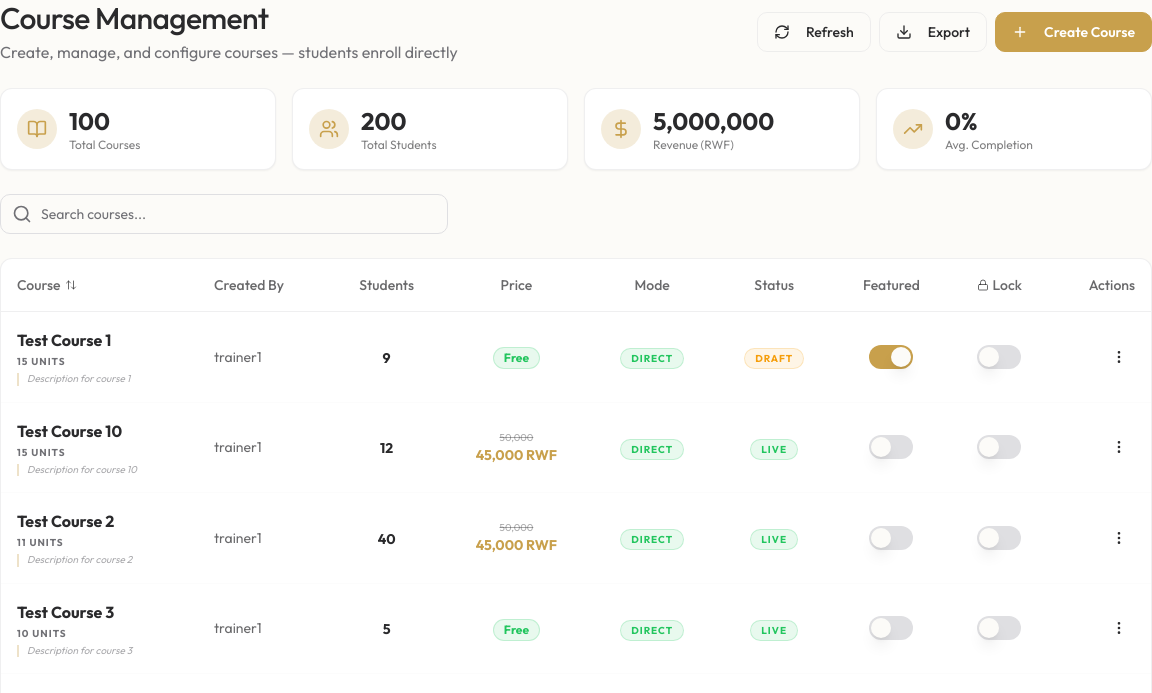
Test: AdminCourses — pagination integration › filters courses by title when searching
Type "Test Course 1" into the field with placeholder "Search courses...".
click(224, 214); type("Test Course 1")  # box [0,194,448,234]
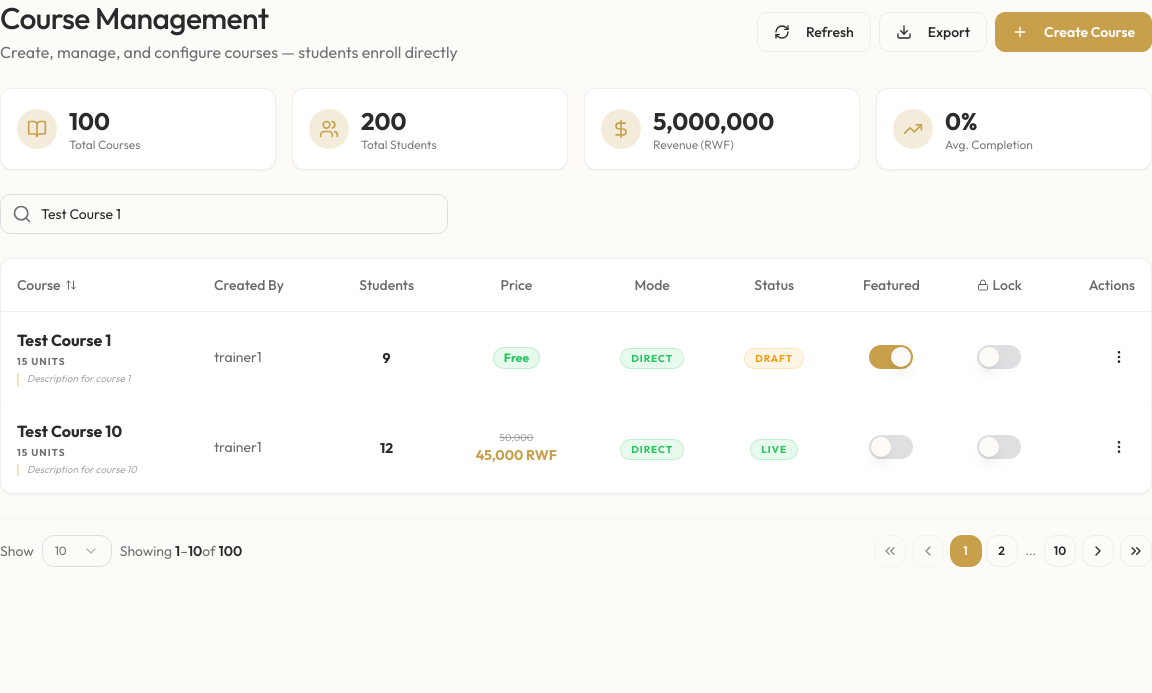
Expected: the text "Test Course 1" is shown, [17,330,111,350]
Expected: the text "Test Course 2" is gone
